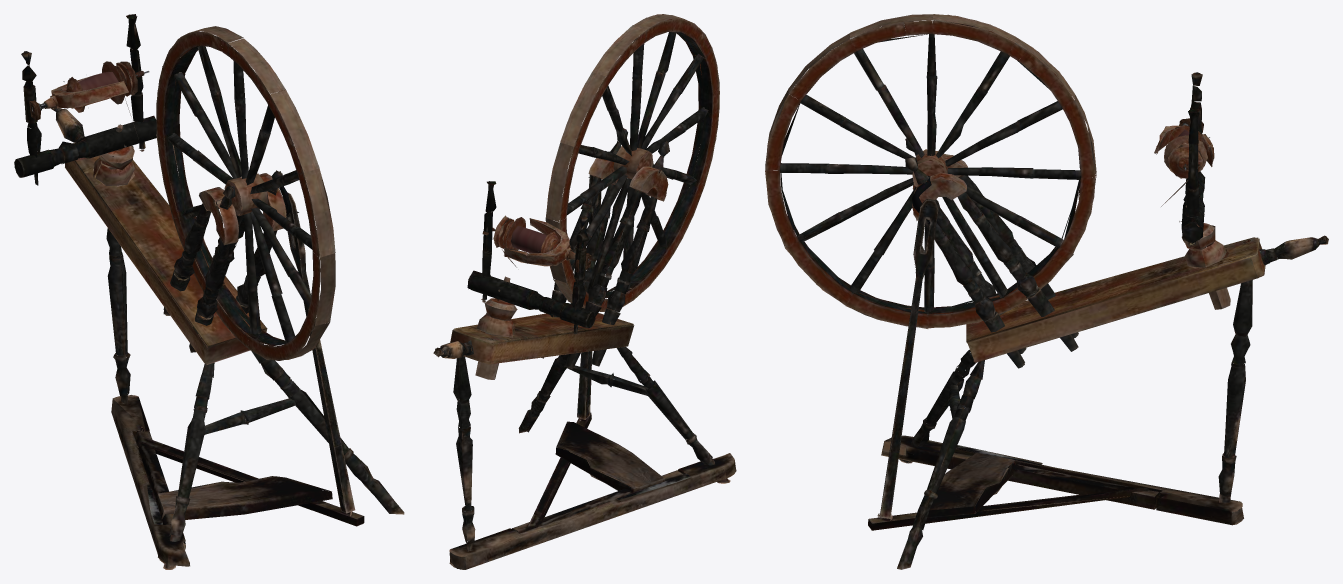
The model's file is spinning_wheel.glb.
3 renders of one model, left to right at view 1: azimuth 30°, elevation 25°; view 2: azimuth 150°, elevation 25°; view 3: azimuth 270°, elevation 25°, orthographic. The views are drawn at different scales.
Visible parts, largest first — view 1: spinning_wheel_01; view 2: spinning_wheel_01; view 3: spinning_wheel_01.
Boxes of the visible parts, bbox=[...] form: spinning_wheel_01: bbox=[14, 14, 404, 569]; spinning_wheel_01: bbox=[433, 14, 736, 569]; spinning_wheel_01: bbox=[765, 14, 1328, 569].
Bounding box in the file's own units: 0.4896 × 0.9684 × 1.03.
Materials: 1 (1 with a texture image).
